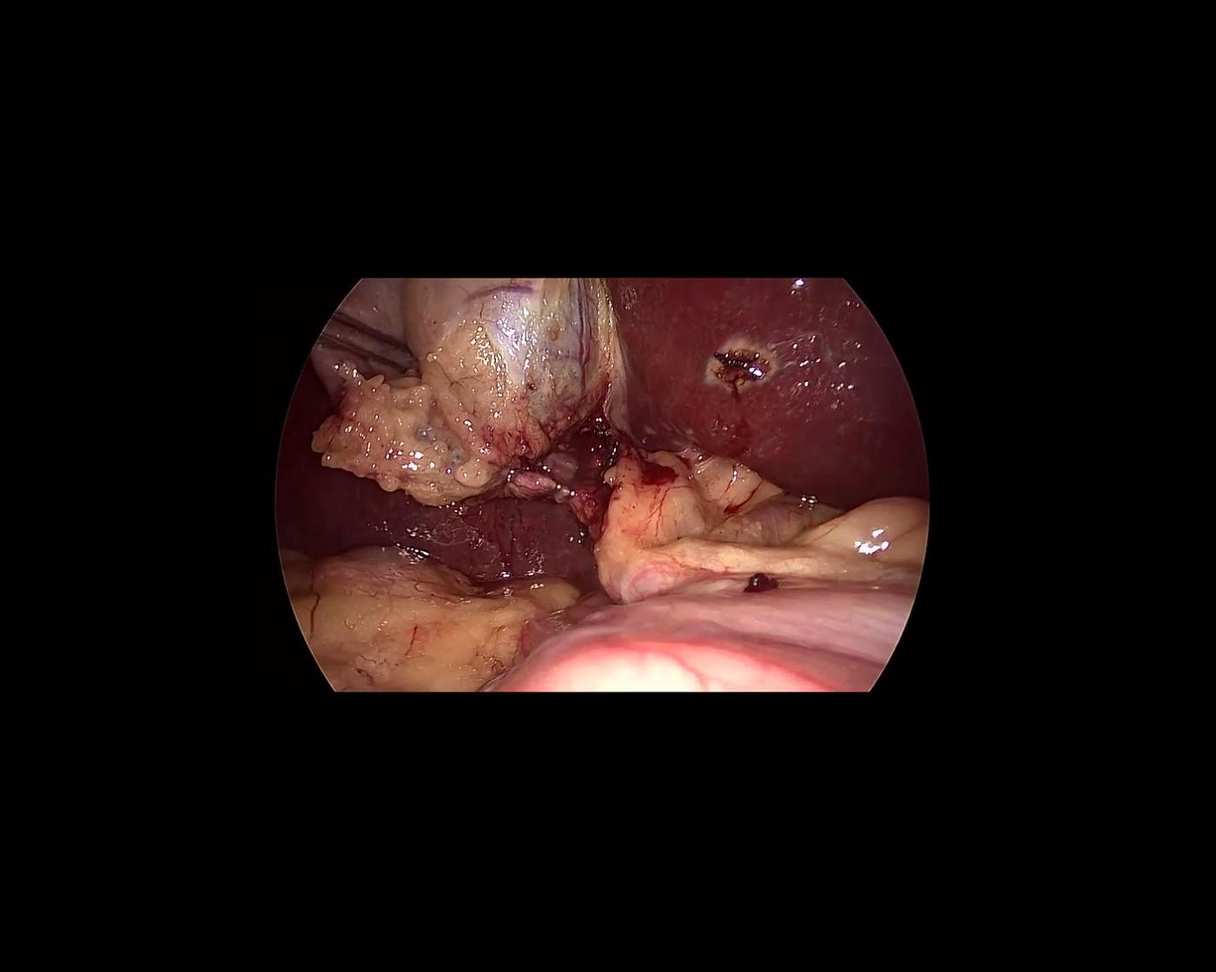Forceps: (319, 305, 435, 388)
Gallbladder: (312, 280, 610, 505)
Liver: (607, 271, 925, 518)
